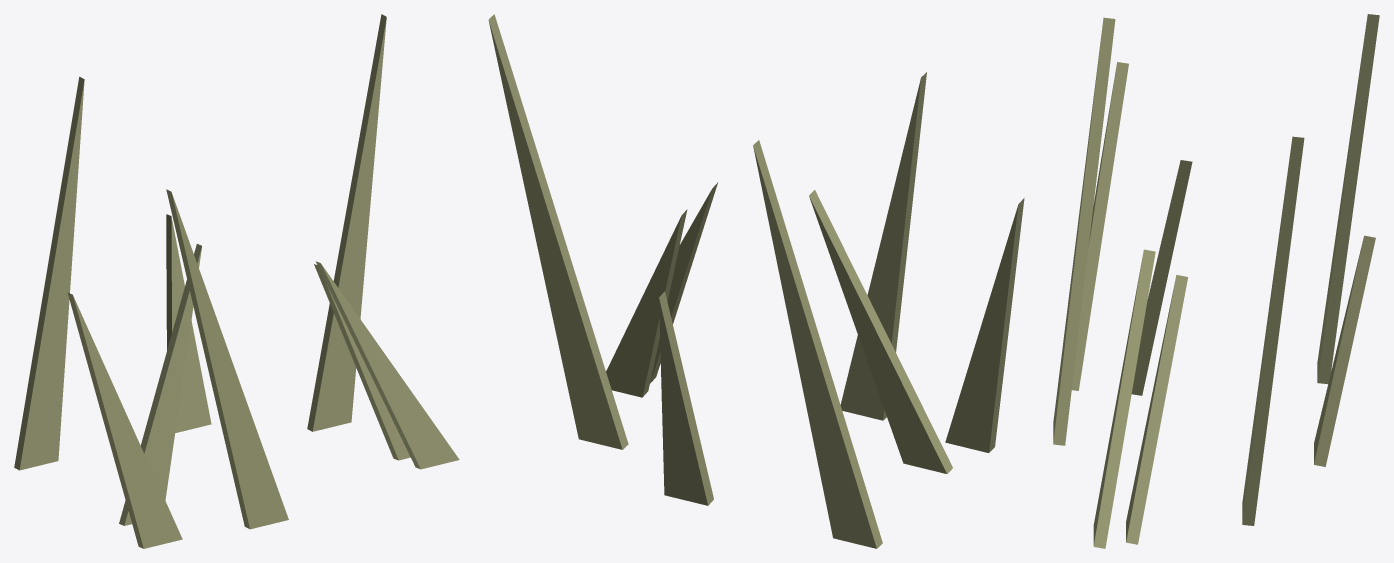
File: SM_ELY_NAT_002_DryGrass.glb
The picture shows the model from 3 angles, left to right: view 1: azimuth 30°, elevation 25°; view 2: azimuth 150°, elevation 25°; view 3: azimuth 270°, elevation 25°; orthographic projection. The views are drawn at different scales.
Visible parts, largest first — view 1: SM_ELY_NAT_002_DryGrass; view 2: SM_ELY_NAT_002_DryGrass; view 3: SM_ELY_NAT_002_DryGrass.
Boxes of the visible parts, bbox=[...] form: SM_ELY_NAT_002_DryGrass: bbox=[14, 14, 459, 548]; SM_ELY_NAT_002_DryGrass: bbox=[488, 14, 1024, 548]; SM_ELY_NAT_002_DryGrass: bbox=[1053, 14, 1379, 548].
Size of the model in its own units: 0.5043 by 0.4619 by 0.3247.
